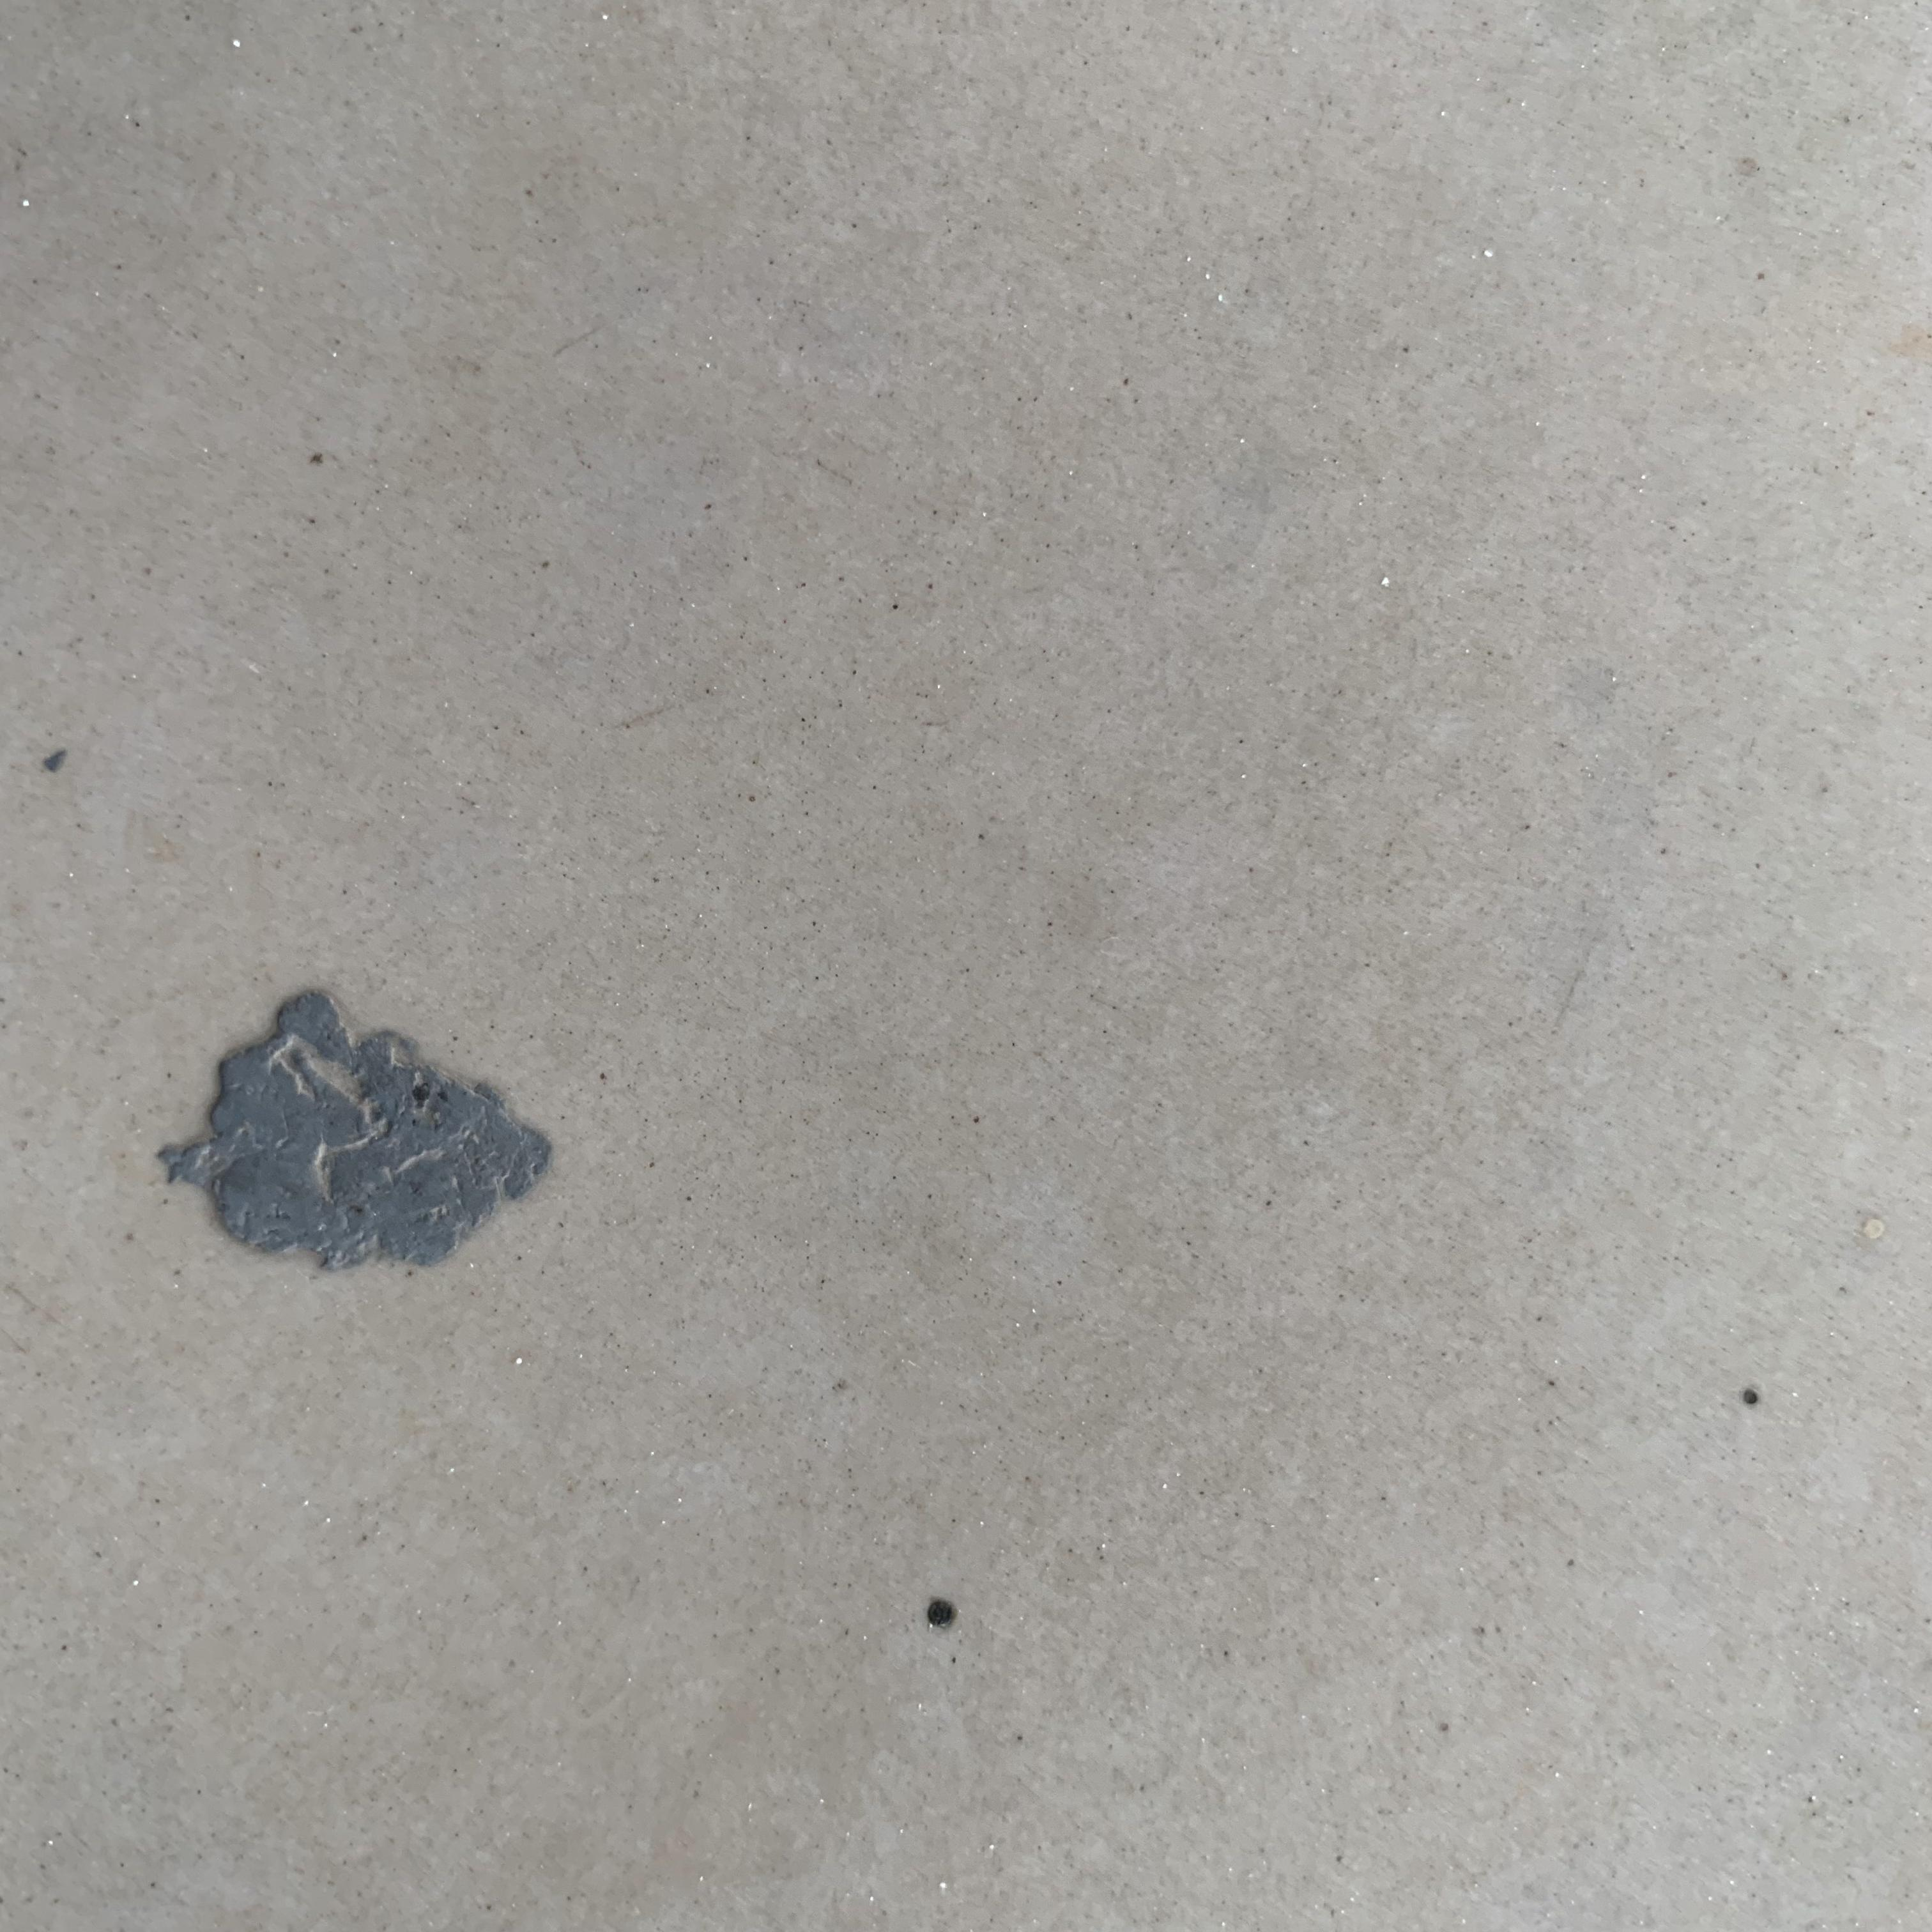grey spot: (152, 987, 550, 1274), (927, 1598, 959, 1629), (1743, 1391, 1757, 1405)
